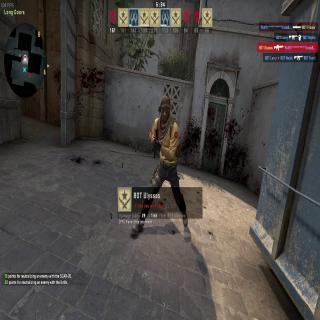CT-Body: (150, 95, 180, 187)
CT-Head: (160, 95, 170, 123)
